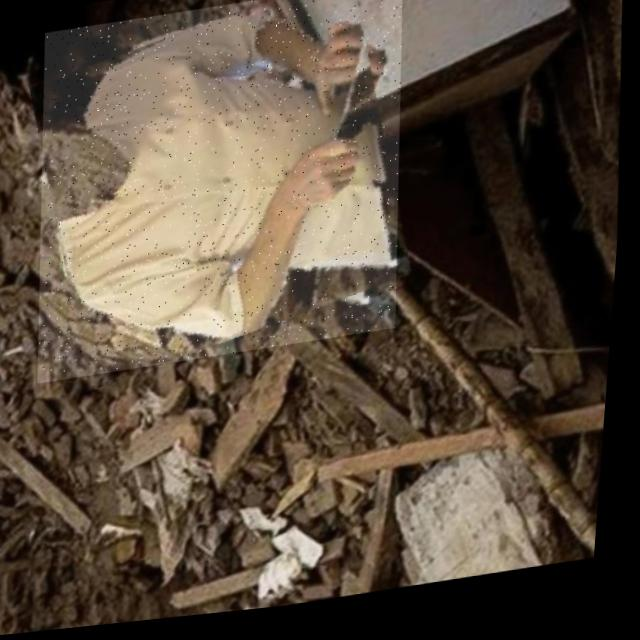Person in Rubble: (25, 0, 422, 386)
